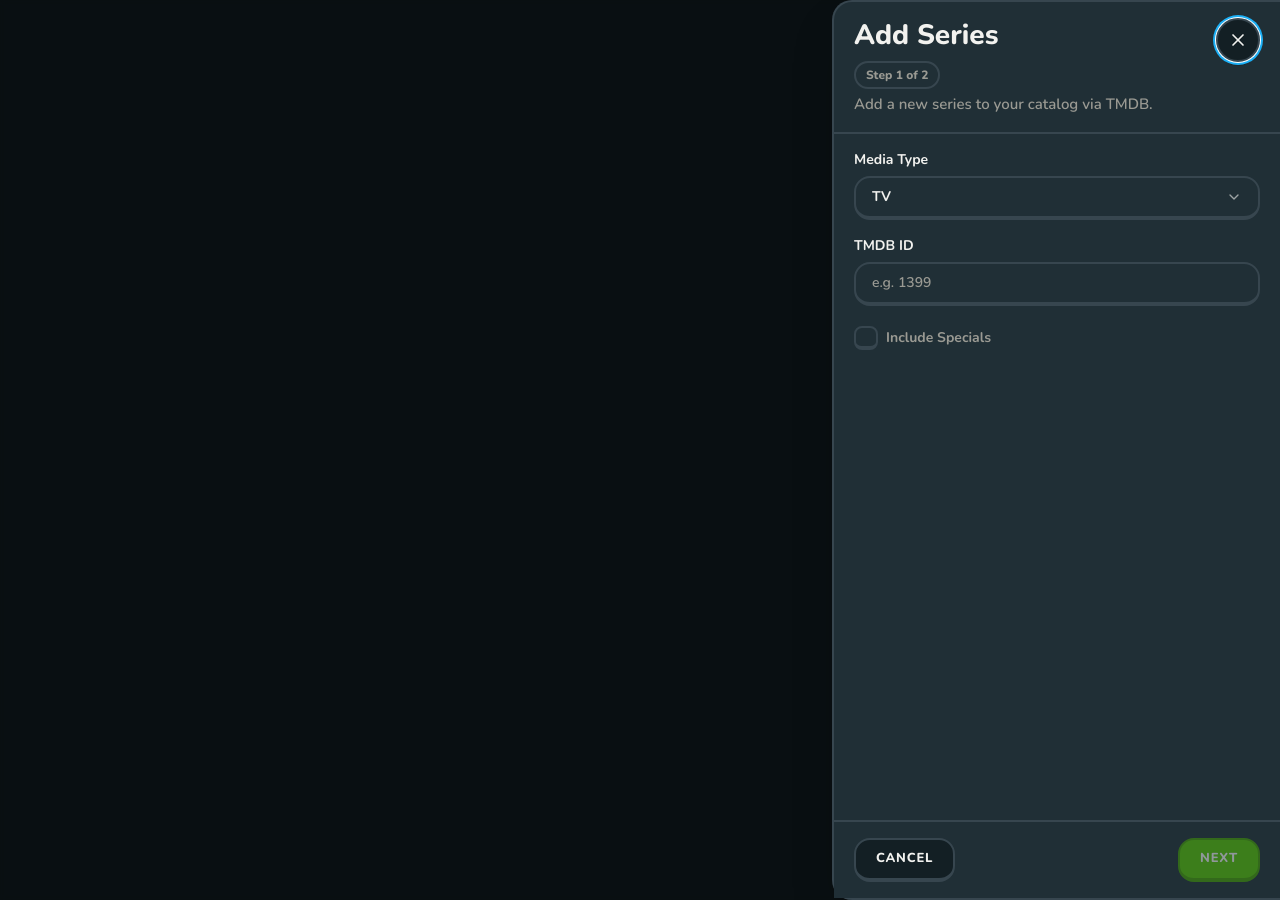
Test: AddMediaDialog component › validates TMDB ID and displays error when submitting empty or invalid ID
The image size is (1280, 900).
expect the button "Next" is disabled: met, box [1178,838,1260,882]
In the field labelled "TMDB ID": (1057, 284) [854,262,1260,306], type "abc"
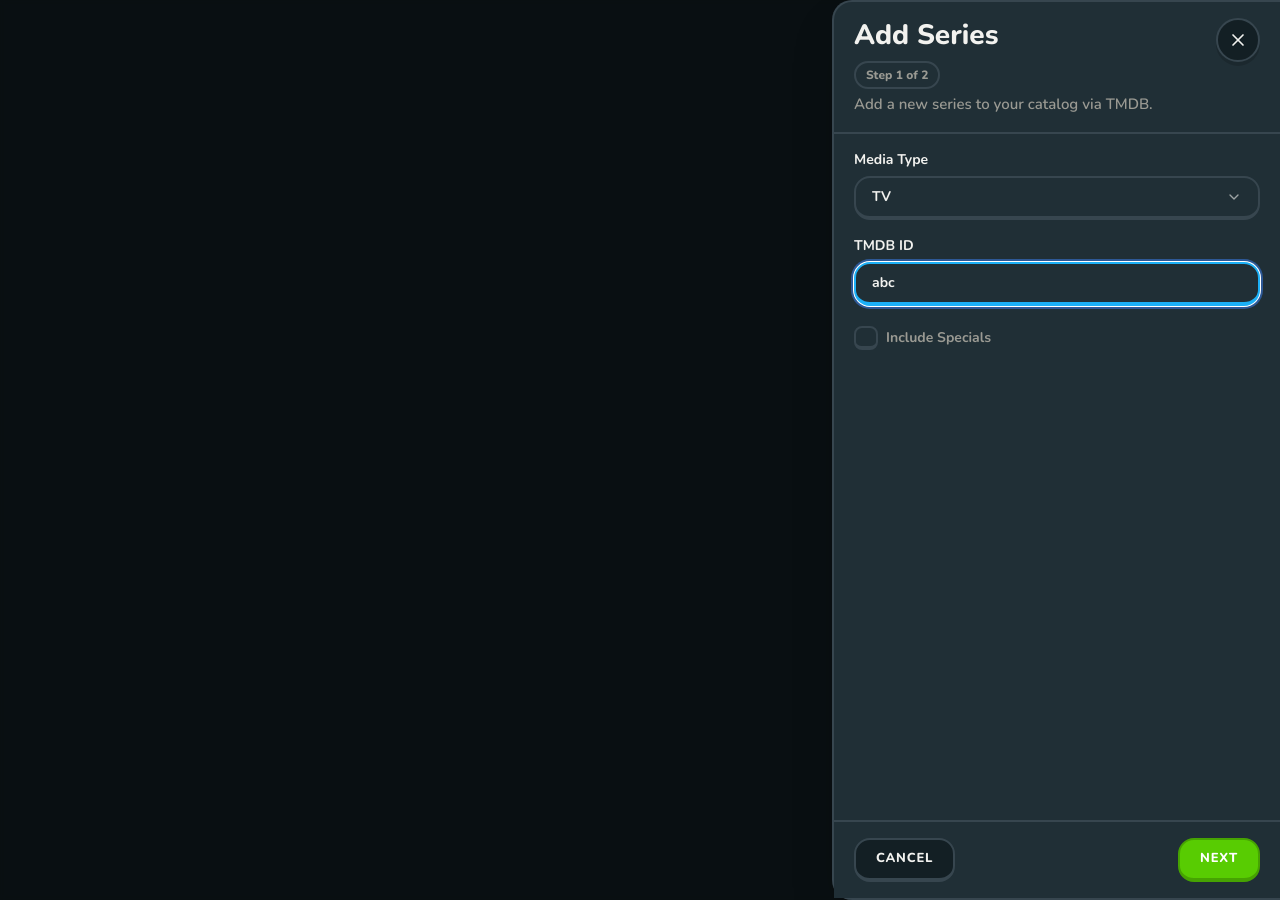
expect the button "Next" is enabled: met
Click the button "Next": (1219, 860) [1178,838,1260,882]
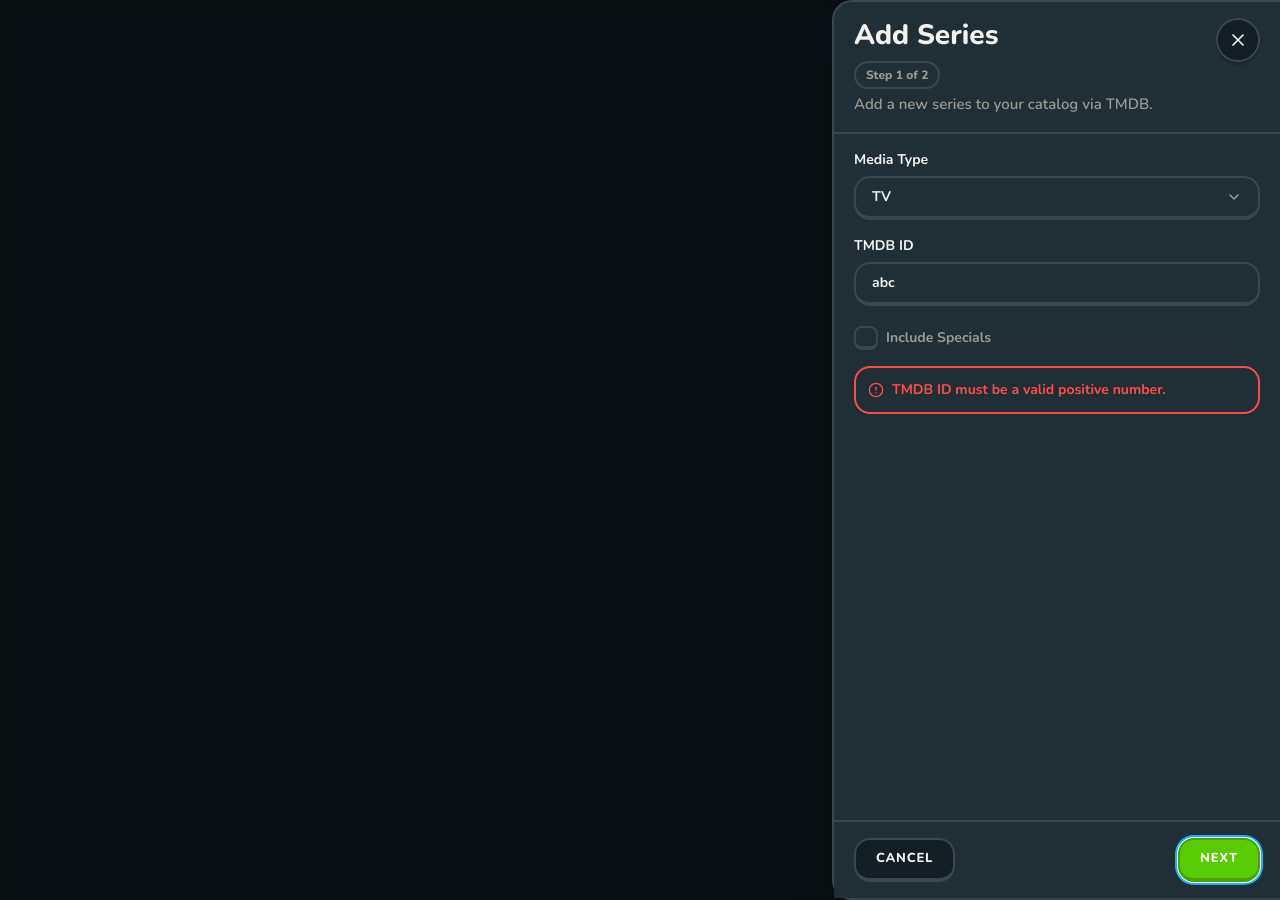
expect the text "TMDB ID must be a valid positive number." is shown: met, box [892,380,1166,400]
